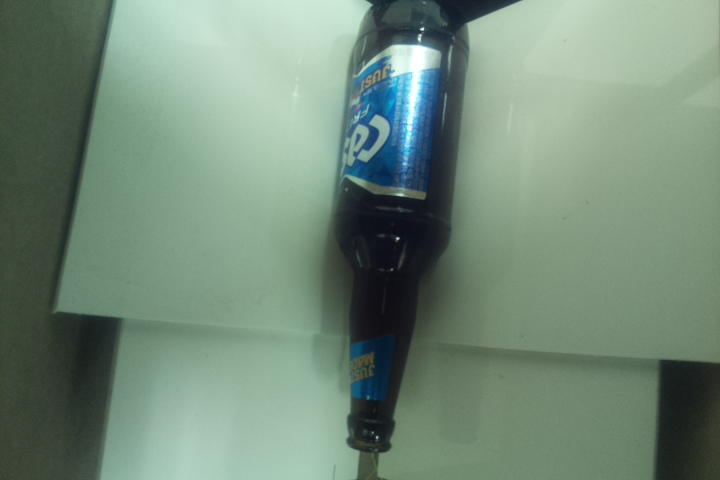makju: (328, 1, 472, 455)
